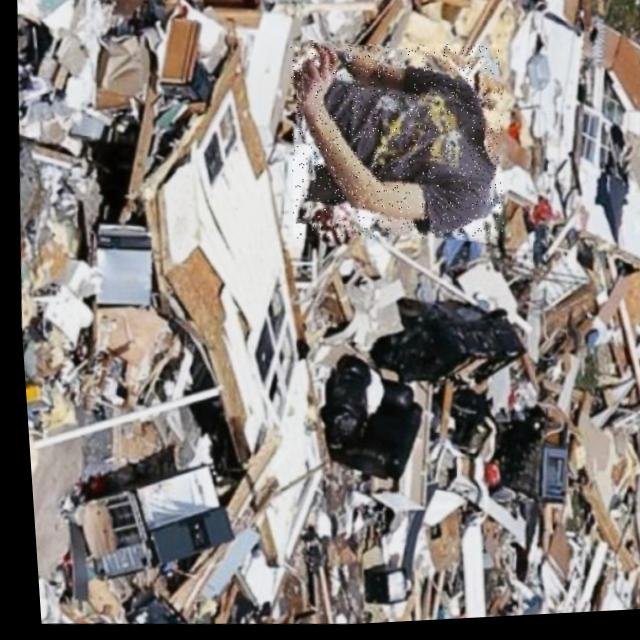Person in Rubble: (279, 38, 509, 252)
